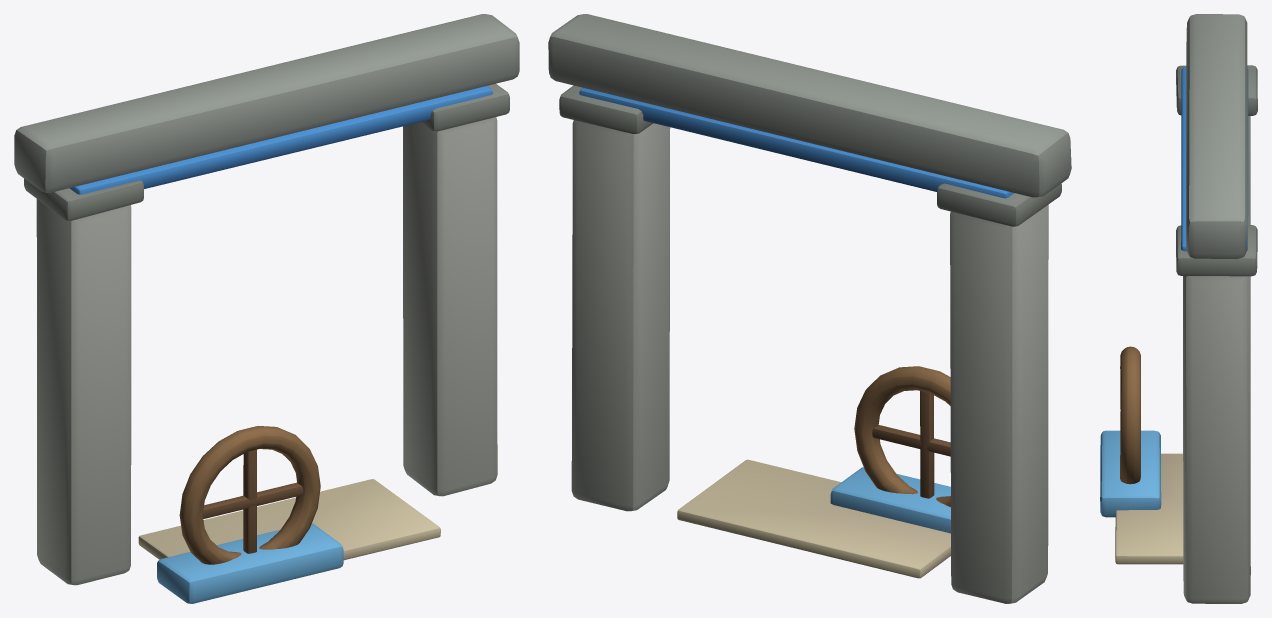
The picture shows the model from 3 angles, left to right: view 1: azimuth 30°, elevation 25°; view 2: azimuth 150°, elevation 25°; view 3: azimuth 270°, elevation 25°; orthographic projection. The views are drawn at different scales.
Visible parts, largest first — view 1: gate_315092b0; view 2: gate_315092b0; view 3: gate_315092b0.
Part boxes in pixels (<box>): gate_315092b0: <box>14,14,519,603</box>; gate_315092b0: <box>548,14,1071,603</box>; gate_315092b0: <box>1100,14,1257,603</box>.
Size of the model in its own units: 4.88 by 4.34 by 1.55.
